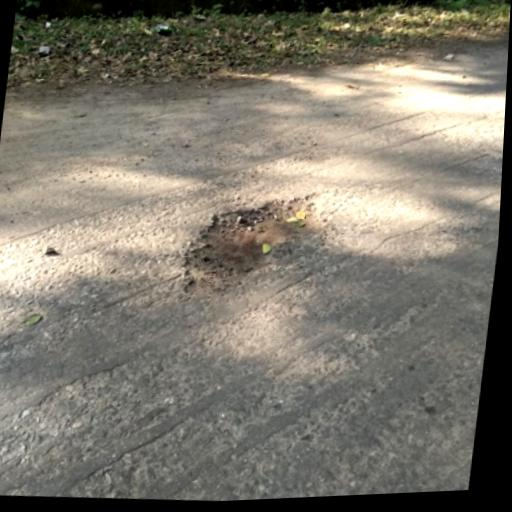pothole: (174, 179, 334, 308)
